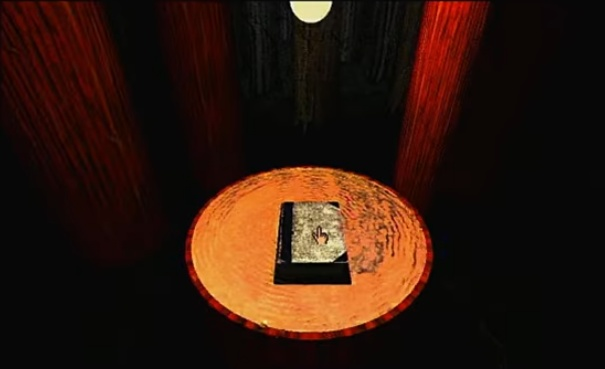Pointer: (310, 224, 331, 246)
